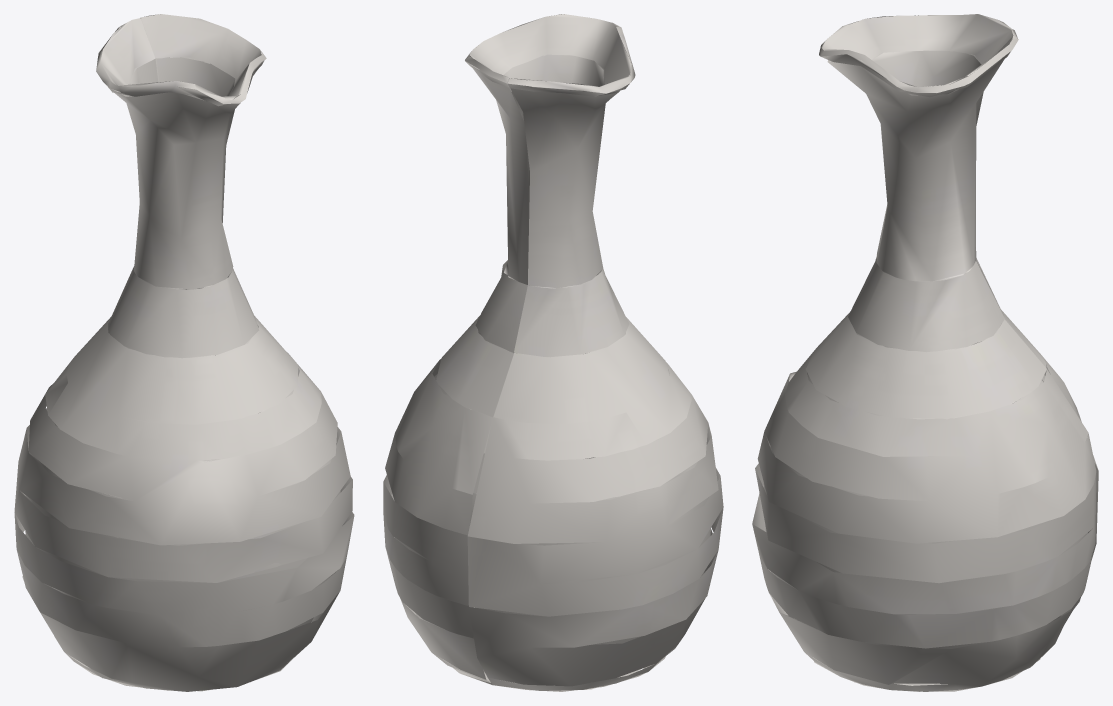
The model's file is ph_vase_white.glb.
3 views of the same model, side by side, from view 1: azimuth 30°, elevation 25°; view 2: azimuth 150°, elevation 25°; view 3: azimuth 270°, elevation 25° (orthographic). The views are drawn at different scales.
Parts seen in each view (by area): view 1: ceramic_vase_01; view 2: ceramic_vase_01; view 3: ceramic_vase_01.
Part boxes in pixels (x1,y1,x2,y2): ceramic_vase_01: [14, 14, 354, 691]; ceramic_vase_01: [383, 14, 723, 691]; ceramic_vase_01: [752, 14, 1098, 691].
Size of the model in its own units: 0.2063 by 0.4017 by 0.2058.
1 material, 1 textured.
